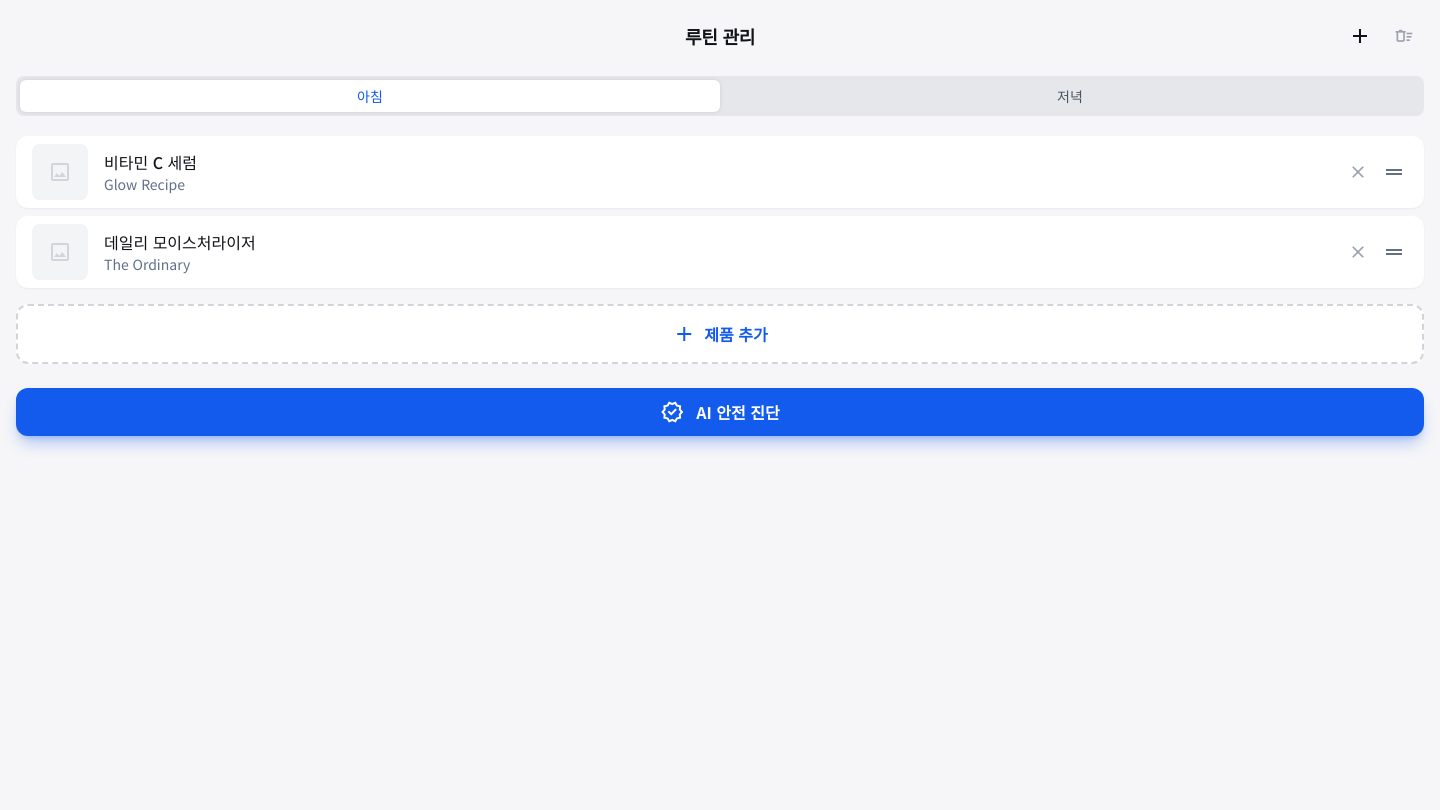
Test: 초기화 버튼 클릭 시 확인 다이얼로그가 열린다
This screenshot has width=1440, height=810.
Expected: the text "비타민 C 세럼" is shown, 104,150 -> 197,174
Click the button named "루틴 초기화": (1404, 36) 1384,16 -> 1424,56
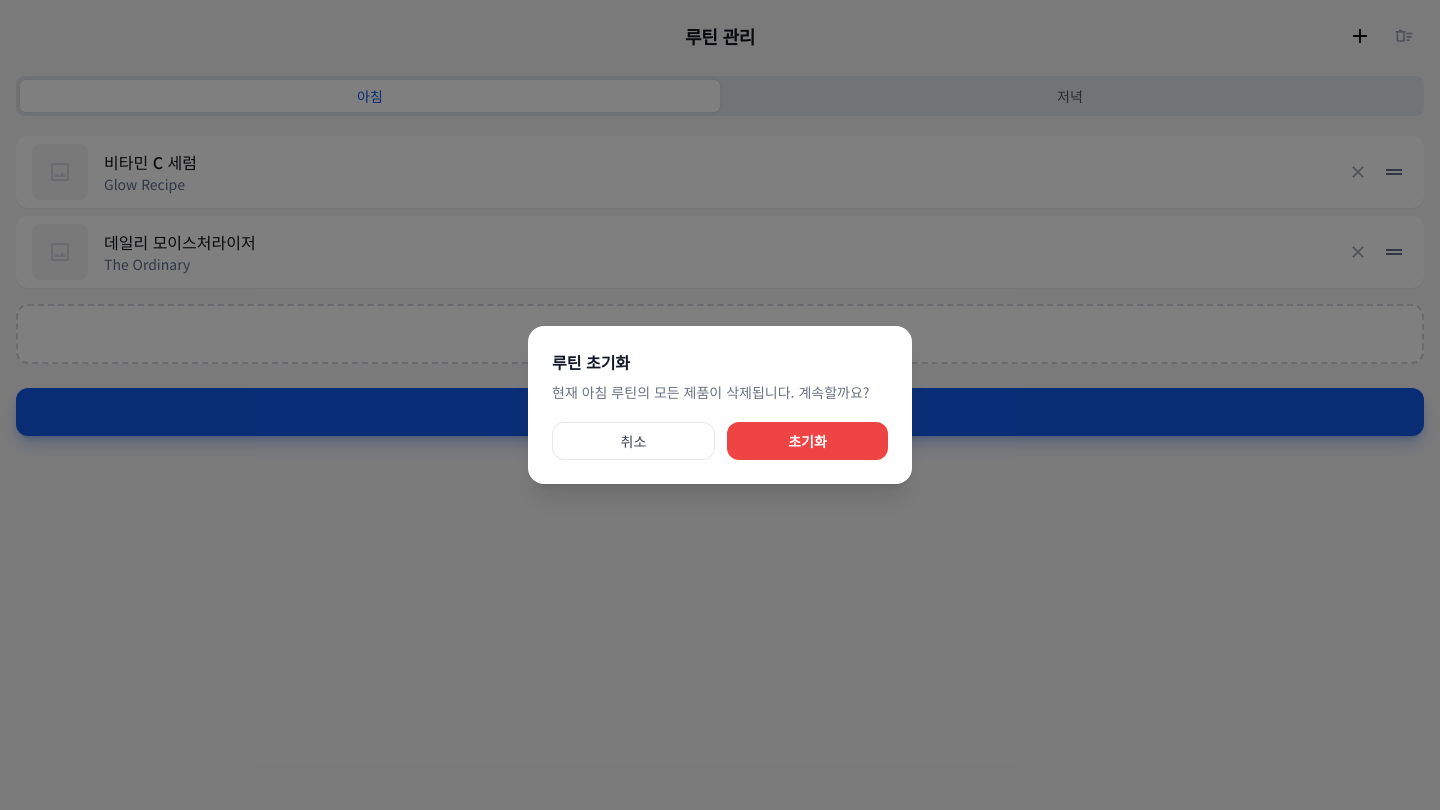
Expected: the heading "루틴 초기화" is shown, 552,350 -> 630,374
Expected: the text "현재 아침 루틴의 모든 제품이 삭제됩니다. 계속할까요?" is shown, 552,382 -> 888,402
